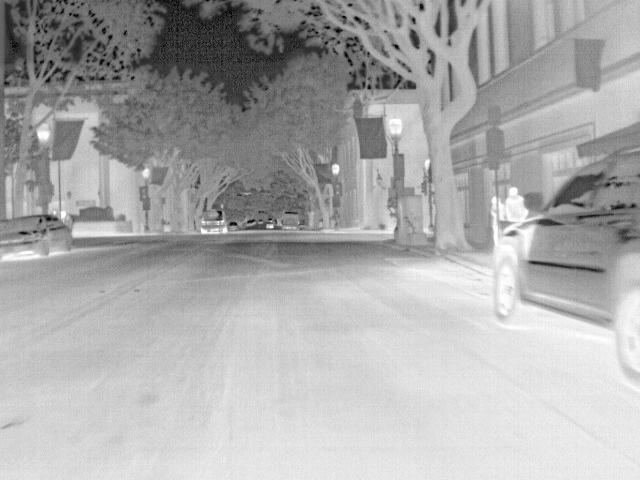car: (490, 146, 637, 386), (0, 211, 74, 257), (200, 207, 229, 234), (281, 209, 300, 231), (264, 222, 277, 232)
person: (502, 185, 529, 219)
